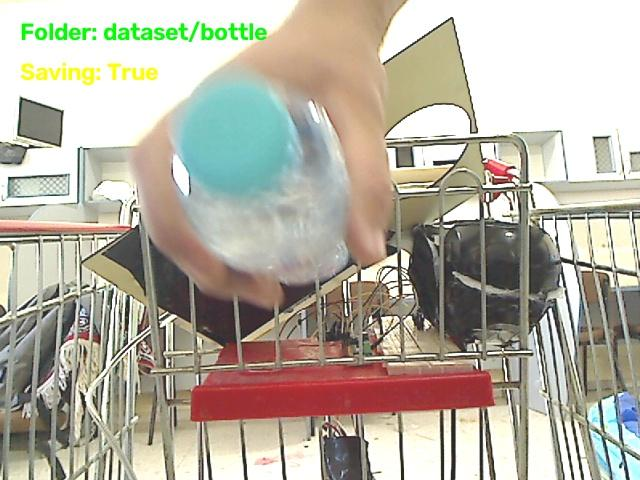Bottle: (174, 75, 348, 284)
